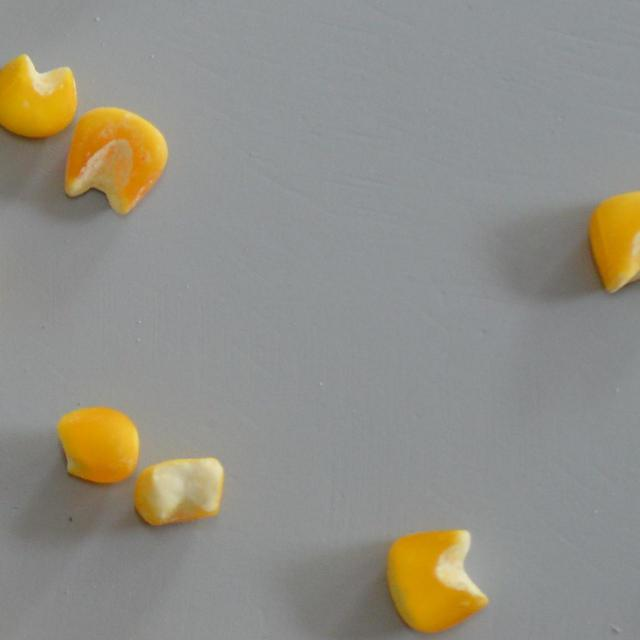no_canjicado: (386, 529, 487, 632), (0, 52, 76, 138), (56, 406, 138, 483), (134, 456, 224, 525), (590, 191, 640, 292)
pelicula: (64, 104, 168, 215)
